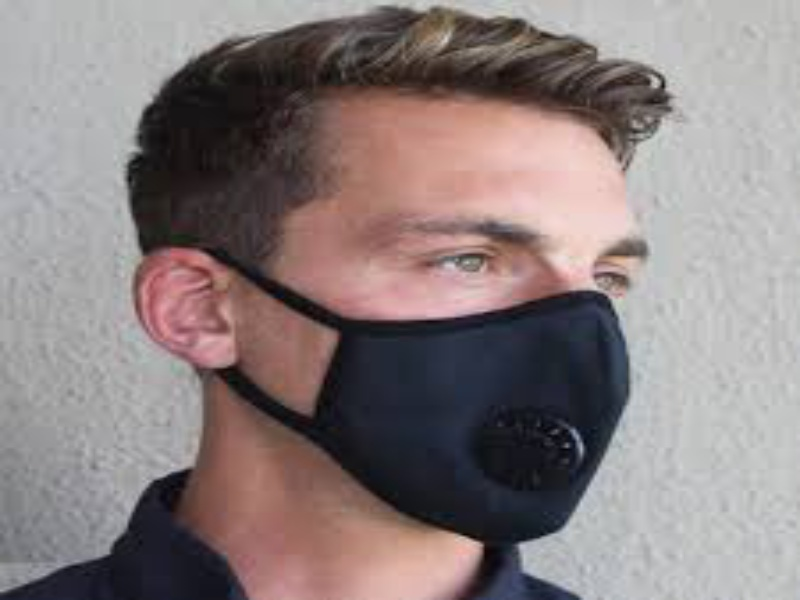ManaoArotava: (105, 34, 706, 566)
